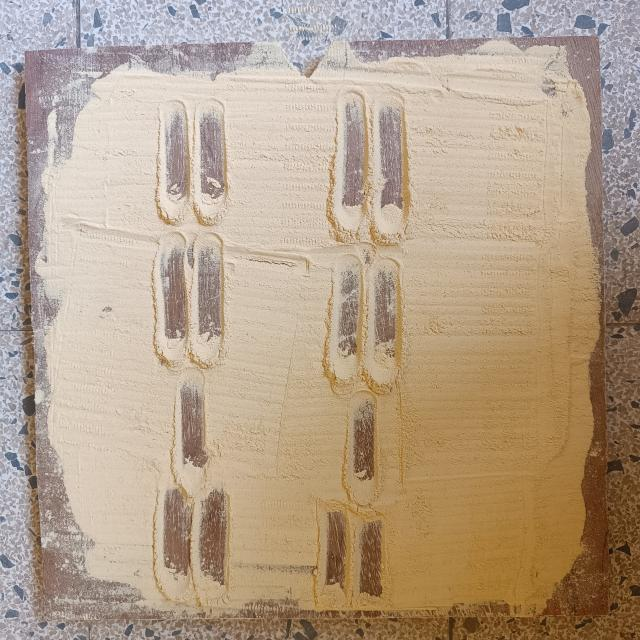double: (328, 90, 413, 240), (323, 255, 410, 394), (149, 228, 232, 368), (149, 486, 236, 604), (154, 92, 230, 224), (314, 503, 394, 610)
single: (170, 366, 215, 486), (342, 391, 386, 502)
